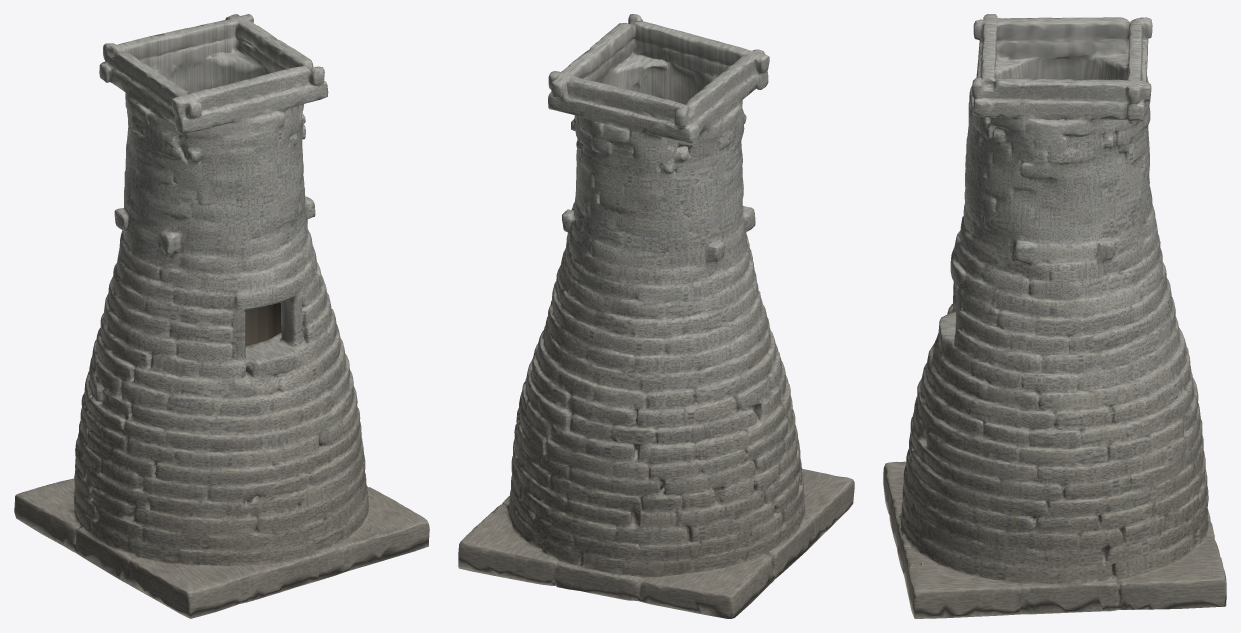
Rendered from cheomseongdae.glb.
3 views of the same model, side by side, from view 1: azimuth 30°, elevation 25°; view 2: azimuth 150°, elevation 25°; view 3: azimuth 270°, elevation 25° (orthographic). The views are drawn at different scales.
Parts seen in each view (by area): view 1: 경주 첨성대; view 2: 경주 첨성대; view 3: 경주 첨성대.
Boxes of the visible parts, x1,y1,x2,y2 form: 경주 첨성대: [14, 14, 429, 618]; 경주 첨성대: [458, 14, 854, 618]; 경주 첨성대: [883, 14, 1226, 618].
Bounding box in the file's own units: 5.69 × 9.17 × 5.73.
1 material, 1 textured.
